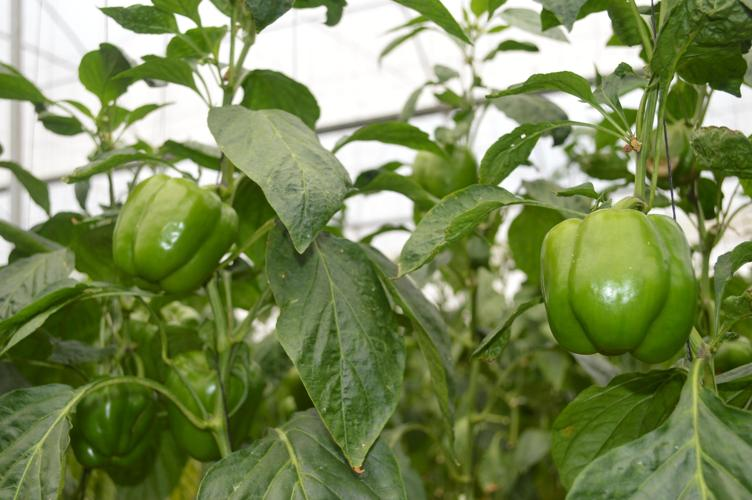BellPepper: (532, 207, 694, 360), (110, 177, 235, 290), (160, 352, 262, 464), (68, 378, 163, 485), (408, 144, 477, 197), (641, 122, 691, 188)
